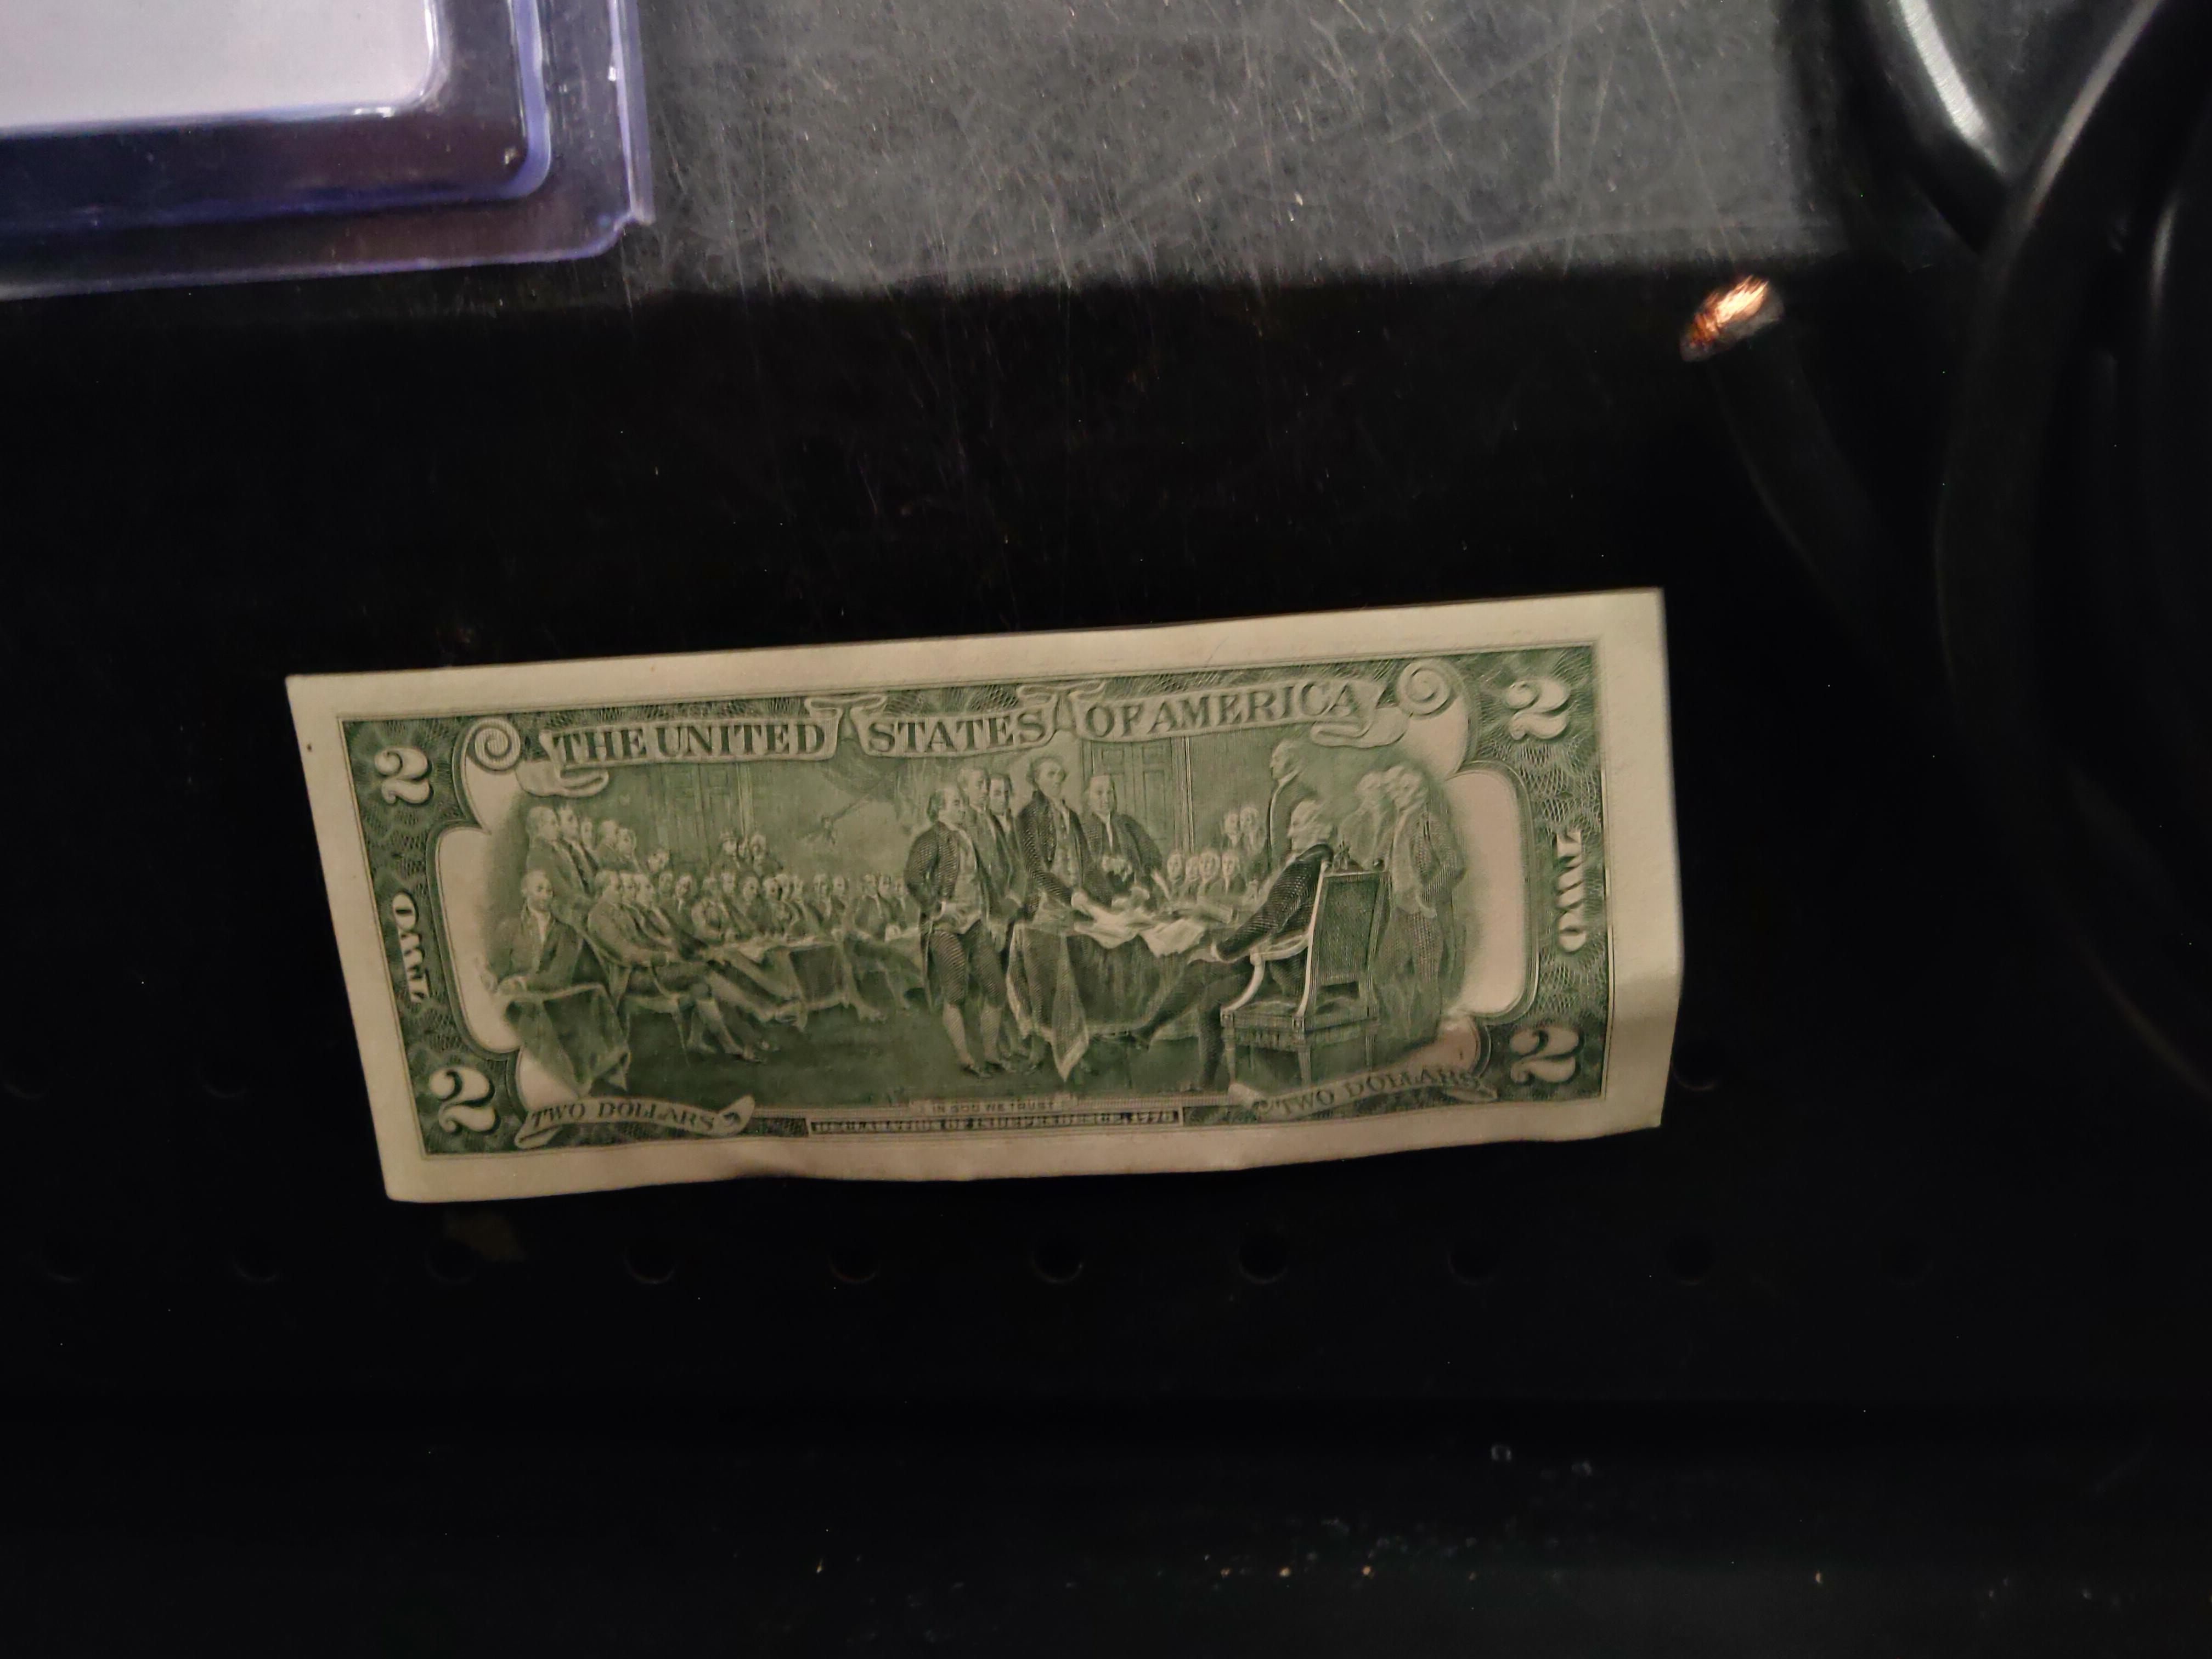TwoBill: (272, 580, 1695, 1201)
